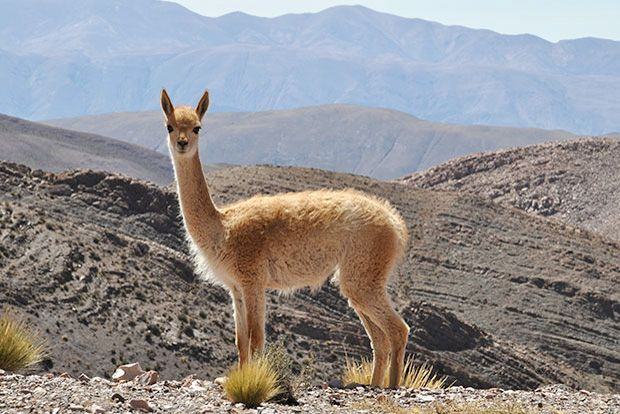eye: (187, 123, 210, 136), (161, 122, 177, 134)
mouth: (174, 140, 195, 157)
